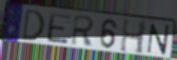6: (100, 18, 119, 50)
D: (20, 8, 46, 42)
E: (46, 12, 73, 46)
H: (118, 18, 148, 56)
N: (145, 23, 171, 56)
R: (70, 14, 97, 48)
